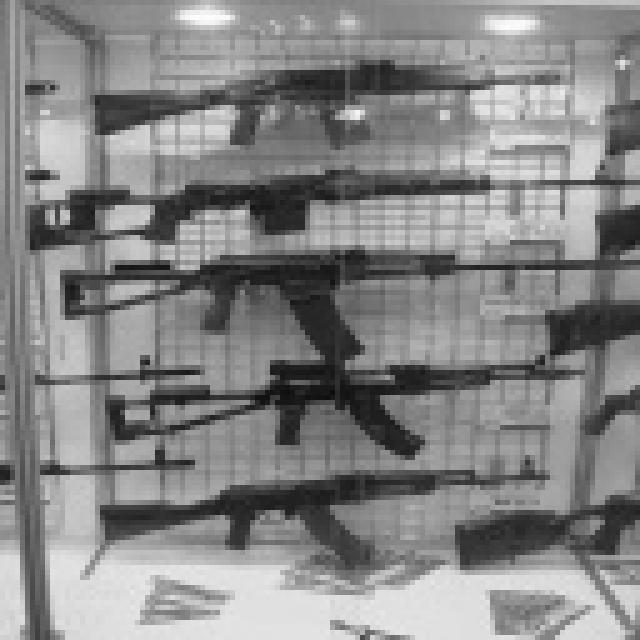Rifle: (0, 0, 593, 163), (50, 240, 640, 370), (85, 328, 640, 459), (65, 448, 563, 572), (22, 168, 640, 252), (430, 455, 640, 605), (520, 265, 640, 375), (550, 74, 640, 181), (560, 192, 640, 267)
